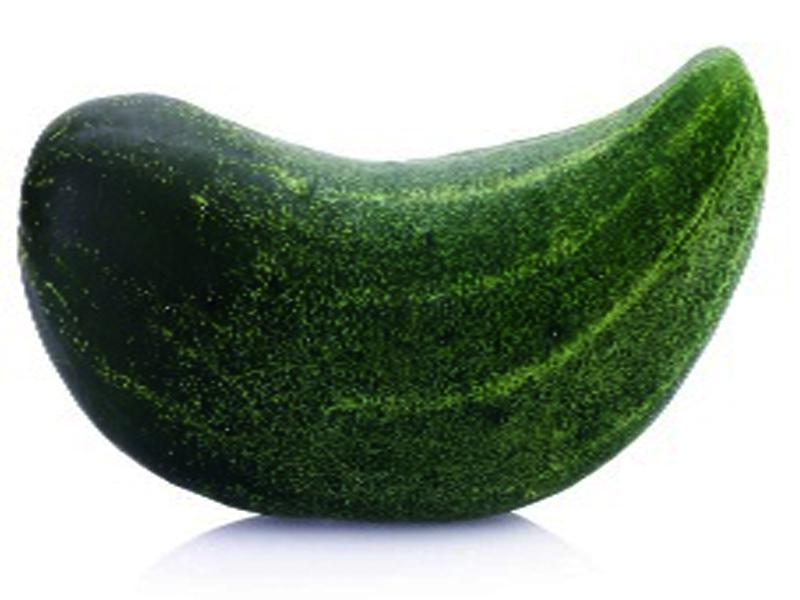Cucumber: (18, 50, 772, 521)
